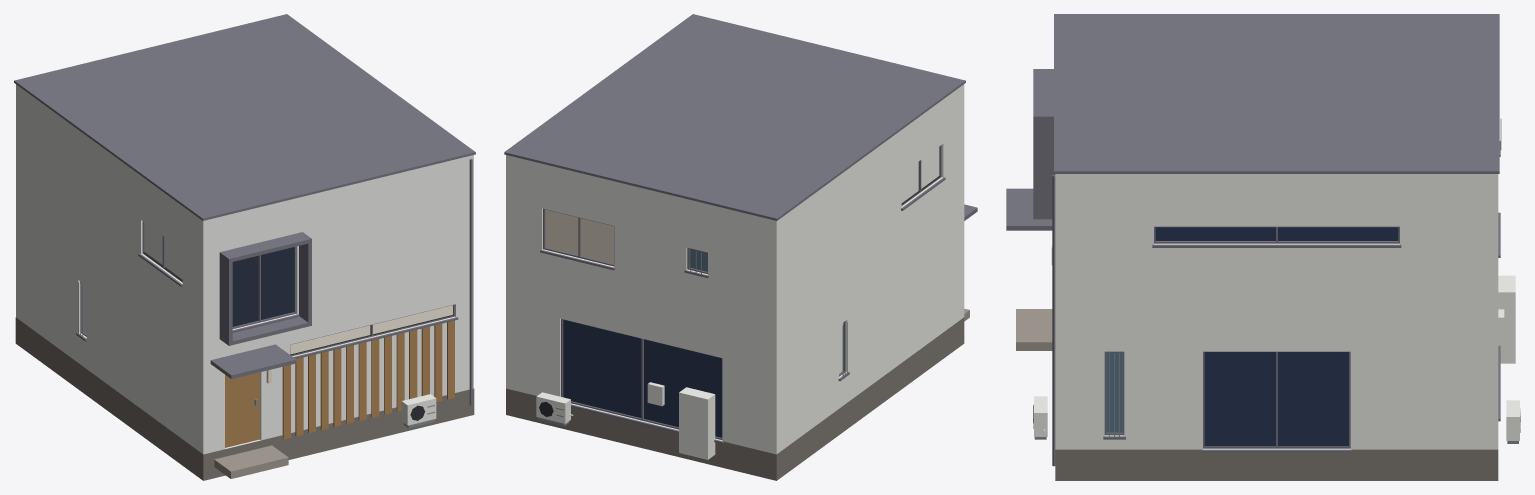
Rendered from tb_house_modern_2f_01.fbx.
3 renders of one model, left to right at view 1: azimuth 30°, elevation 25°; view 2: azimuth 150°, elevation 25°; view 3: azimuth 270°, elevation 25°, orthographic. The views are drawn at different scales.
Visible parts, largest first — view 1: tb_house_modern_2f_01; view 2: tb_house_modern_2f_01; view 3: tb_house_modern_2f_01.
Part boxes in pixels (left/top/right/bottom): tb_house_modern_2f_01: left=14, top=14, right=475, bottom=480; tb_house_modern_2f_01: left=504, top=14, right=977, bottom=480; tb_house_modern_2f_01: left=1006, top=14, right=1520, bottom=480.
Size of what is drawn, in the model's own units: 7.62 by 6.96 by 10.45.
3 materials, 3 textured.
